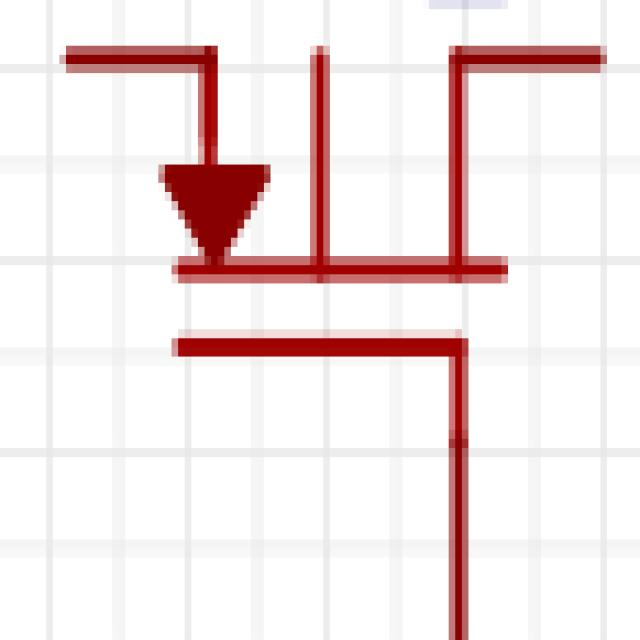pmos: (36, 14, 610, 640)
